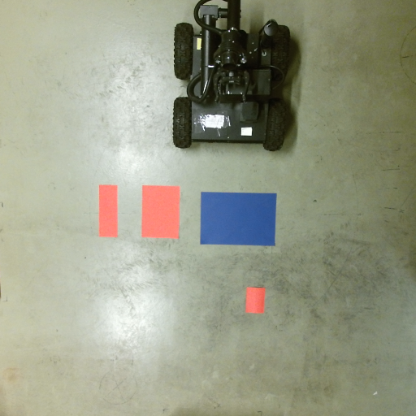Blue: (197, 190, 277, 248)
Jaguar: (170, 0, 288, 155)
Red: (139, 185, 181, 240), (98, 184, 120, 239), (243, 287, 265, 314)
